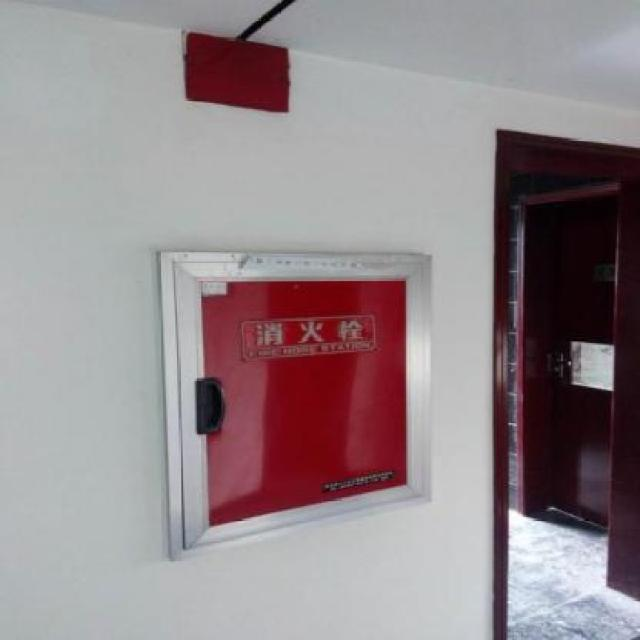firehydrant: (153, 244, 440, 566)
